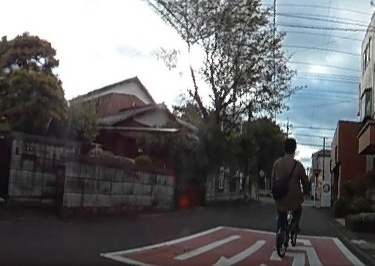person: (272, 138, 308, 248)
